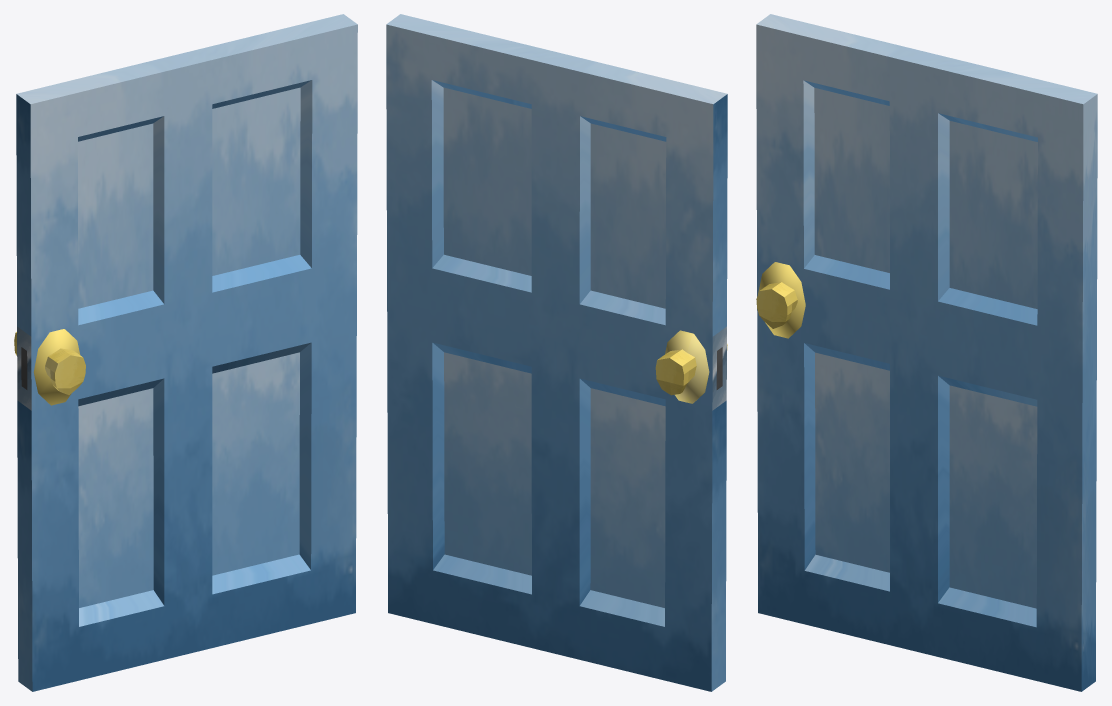
Rendered from Obj_Door_002.gltf.
The picture shows the model from 3 angles, left to right: view 1: azimuth 30°, elevation 25°; view 2: azimuth 150°, elevation 25°; view 3: azimuth 330°, elevation 25°; orthographic projection.
Parts seen in each view (by area): view 1: Obj_Door_002, Obj_DoorHandle.001; view 2: Obj_Door_002, Obj_DoorHandle.001; view 3: Obj_Door_002, Obj_DoorHandle.001.
Boxes of the visible parts, <box> form: Obj_Door_002: <box>16,14,357,691</box>; Obj_DoorHandle.001: <box>14,332,85,395</box>; Obj_Door_002: <box>386,14,727,691</box>; Obj_DoorHandle.001: <box>655,344,727,395</box>; Obj_Door_002: <box>756,14,1097,691</box>; Obj_DoorHandle.001: <box>756,282,797,328</box>.
Size of what is drawn, in the model's own units: 1.48 by 2.55 by 0.3342.
Materials: 1 (1 with a texture image).
